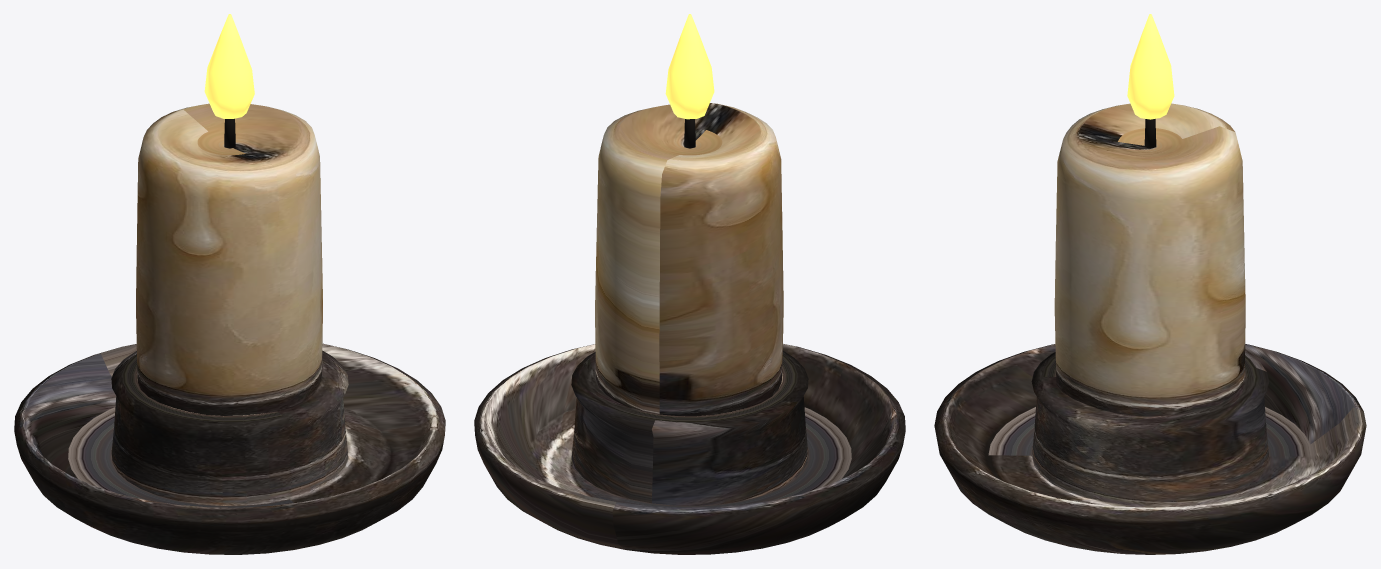
File: candle.glb
3 renders of one model, left to right at view 1: azimuth 30°, elevation 25°; view 2: azimuth 150°, elevation 25°; view 3: azimuth 270°, elevation 25°, orthographic.
Parts seen in each view (by area): view 1: candle, flame; view 2: candle, flame; view 3: candle, flame.
Part boxes in pixels (x1,y1,x2,y2): candle: (14, 103, 445, 554); flame: (204, 14, 254, 118); candle: (474, 103, 905, 554); flame: (665, 14, 714, 119); candle: (934, 103, 1366, 554); flame: (1127, 14, 1174, 119).
Bounding box in the file's own units: 0.16 × 0.19 × 0.16.
3 materials, 1 textured.
